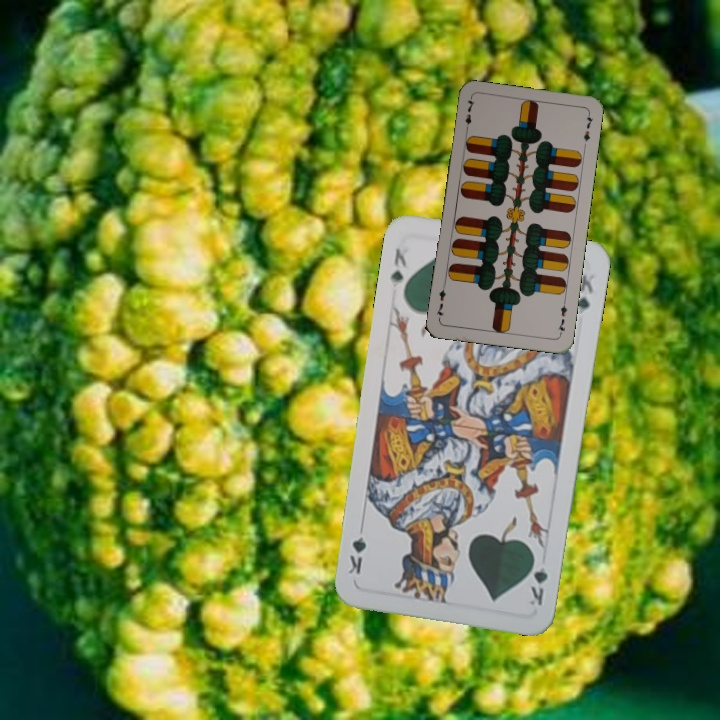E7: (554, 297, 570, 338), (461, 95, 477, 135)
GK: (525, 551, 550, 611), (386, 243, 412, 286)
